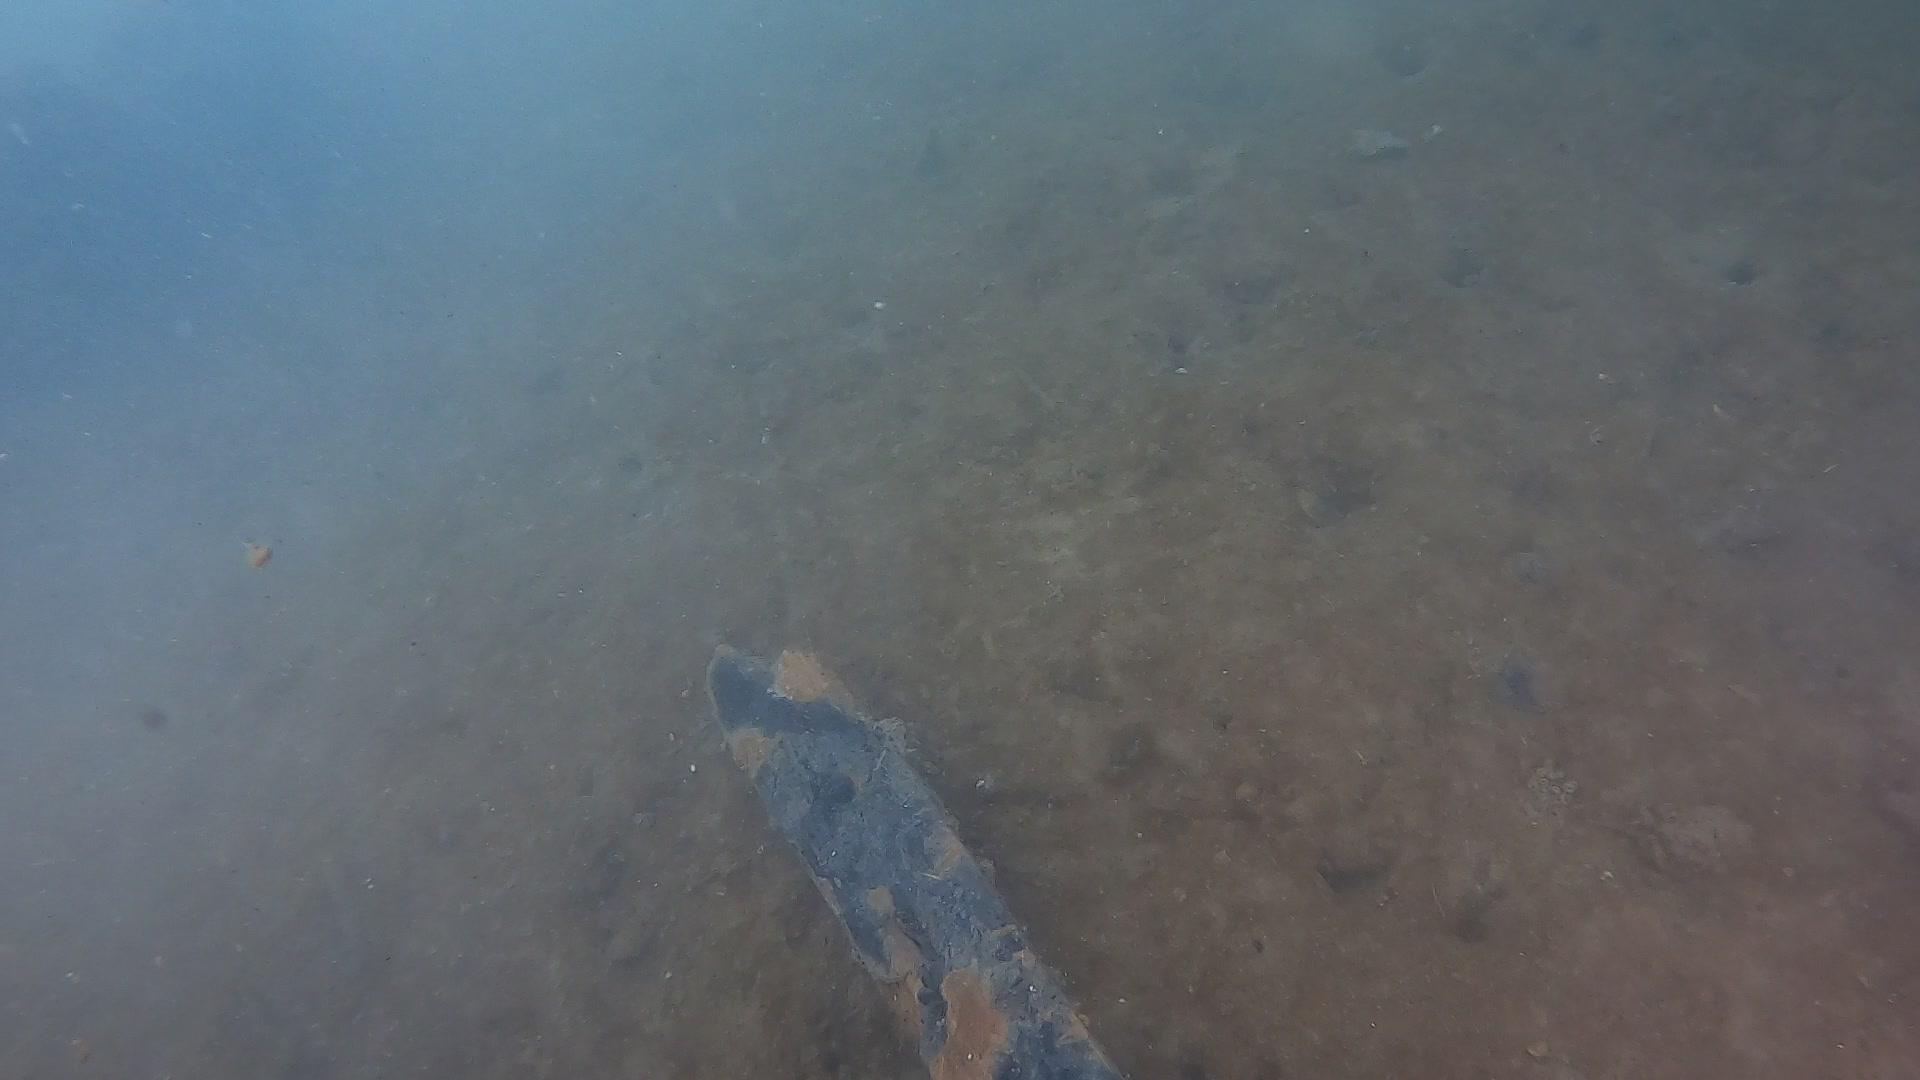wood: (696, 636, 1146, 1080)
